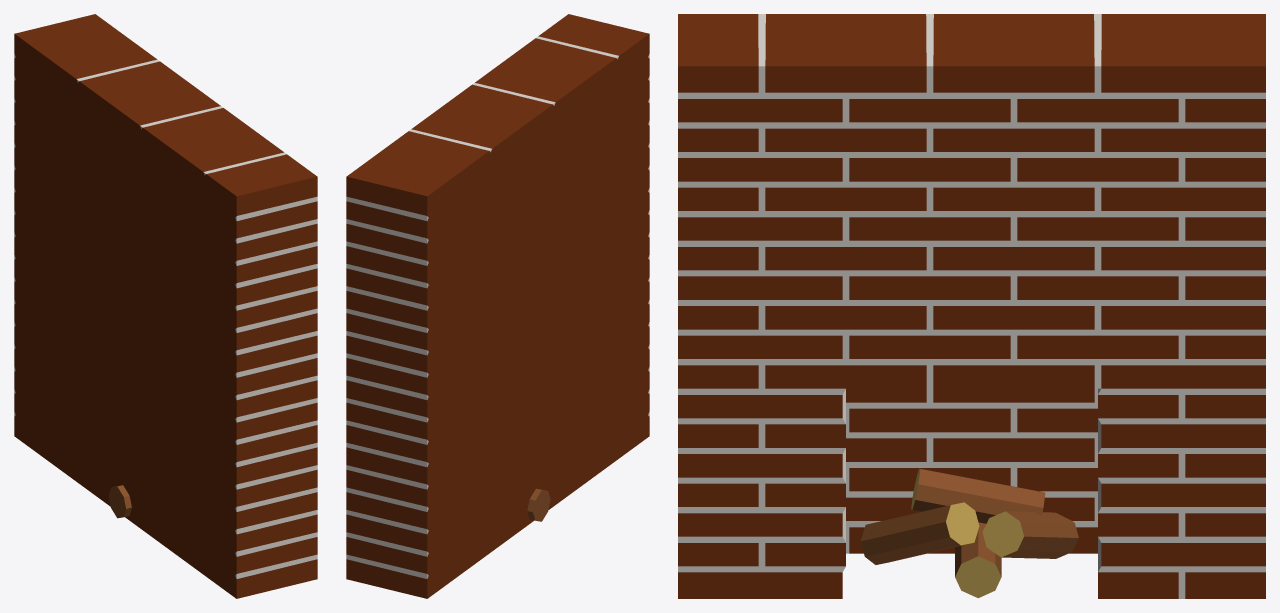
The model's file is FirePlace of poop.fbx.
3 renders of one model, left to right at view 1: azimuth 30°, elevation 25°; view 2: azimuth 150°, elevation 25°; view 3: azimuth 270°, elevation 25°, orthographic. The views are drawn at different scales.
Parts seen in each view (by area): view 1: Cube, Cube.001; view 2: Cube, Cube.001; view 3: Cube, Cube.002, Cube.004, Cube.003, Cube.001.
Boxes of the visible parts, box(x1,y1,x2,y2) form: Cube: box(14, 14, 317, 598); Cube.001: box(108, 485, 131, 518); Cube: box(346, 14, 649, 598); Cube.001: box(527, 488, 550, 521); Cube: box(678, 14, 1265, 598); Cube.002: box(860, 502, 979, 564); Cube.004: box(911, 468, 1045, 523); Cube.003: box(982, 511, 1078, 558); Cube.001: box(955, 522, 1001, 598).
Bounding box in the file's own units: 21.78 × 89.87 × 89.63.
